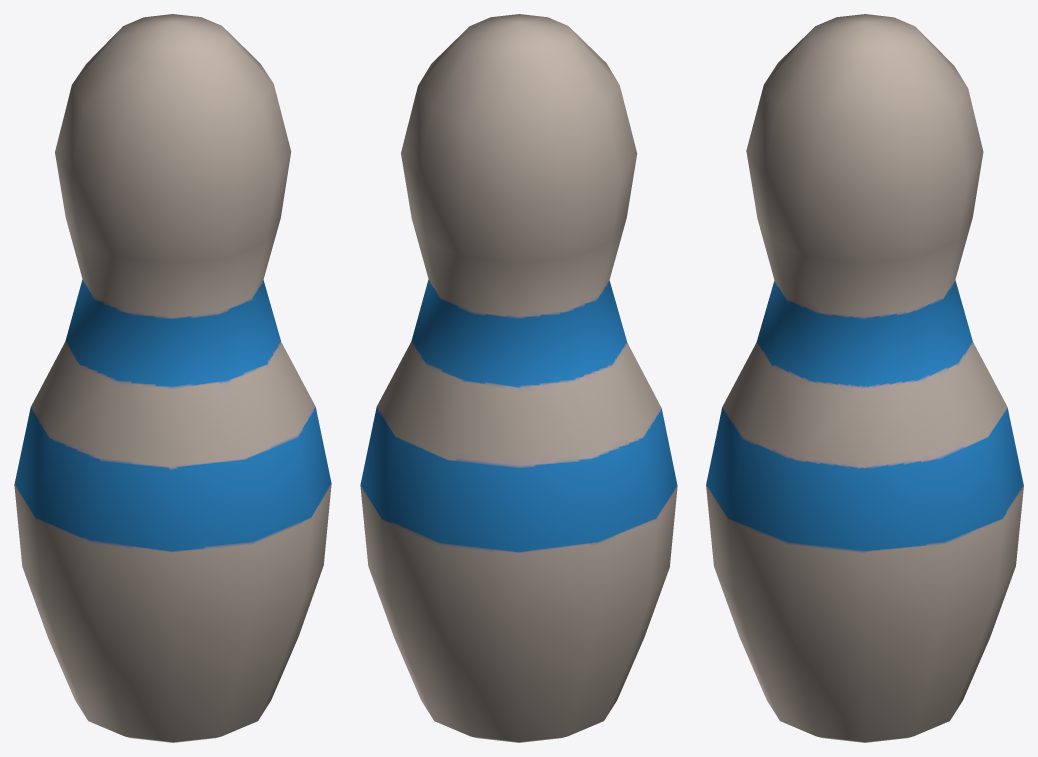
Rendered from 0-bowlingpin_blue.fbx.
The picture shows the model from 3 angles, left to right: view 1: azimuth 30°, elevation 25°; view 2: azimuth 150°, elevation 25°; view 3: azimuth 270°, elevation 25°; orthographic projection.
Visible parts, largest first — view 1: 0-bowlingpin_blue; view 2: 0-bowlingpin_blue; view 3: 0-bowlingpin_blue.
Boxes of the visible parts, x1,y1,x2,y2 form: 0-bowlingpin_blue: (14, 14, 331, 742); 0-bowlingpin_blue: (360, 14, 677, 742); 0-bowlingpin_blue: (706, 14, 1023, 742).
Size of the model in its own units: 39.11 by 92.93 by 39.14.
